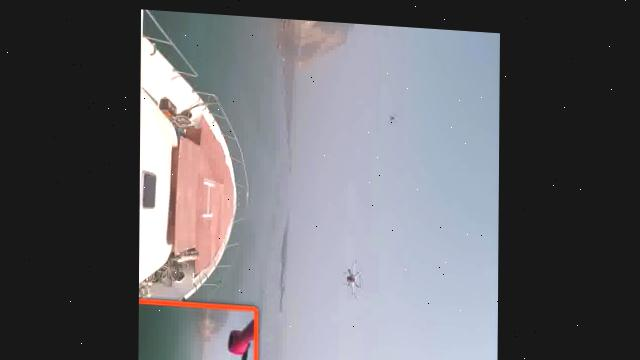drone: (330, 245, 371, 304)
